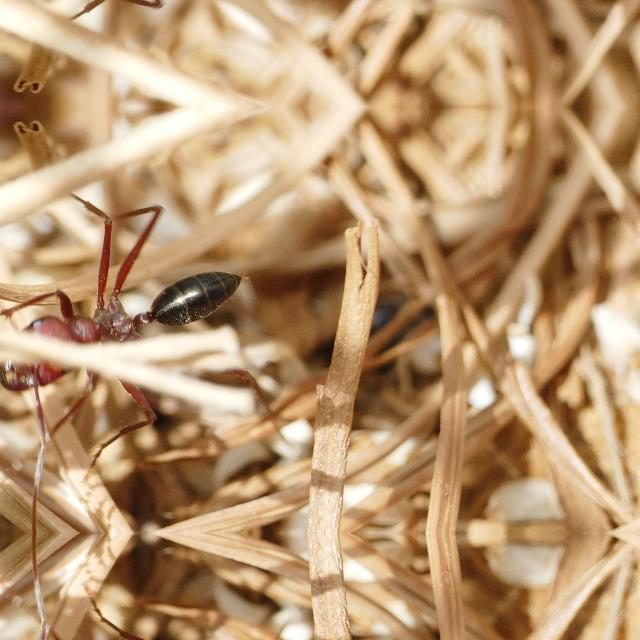Cataglyphis: (9, 256, 257, 362)
